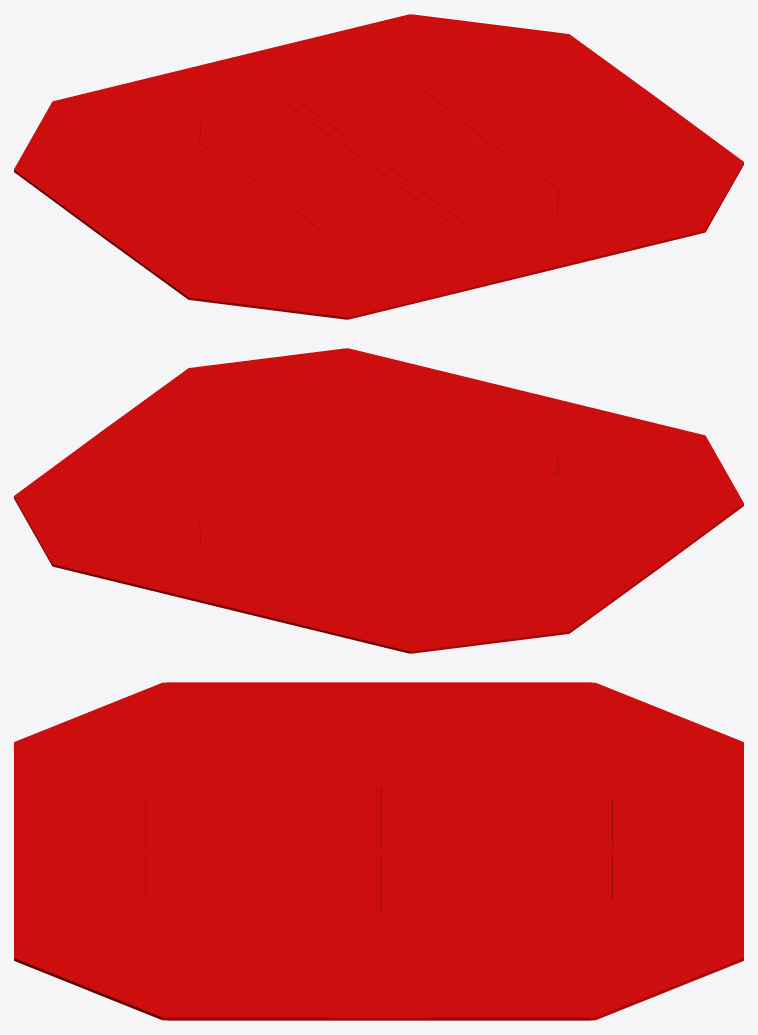
The model's file is Chamber_4_2.fbx.
The picture shows the model from 3 angles, top to bottom: view 1: azimuth 30°, elevation 25°; view 2: azimuth 150°, elevation 25°; view 3: azimuth 270°, elevation 25°; orthographic projection. The views are drawn at different scales.
Parts seen in each view (by area): view 1: L1:polySurface1; view 2: L1:polySurface1; view 3: L1:polySurface1.
Part boxes in pixels (box(x1,y1,x2,y2)): L1:polySurface1: box(14, 14, 743, 319); L1:polySurface1: box(14, 348, 743, 653); L1:polySurface1: box(14, 682, 743, 1020).
Bounding box in the file's own units: 798 × 3.2 × 733.
